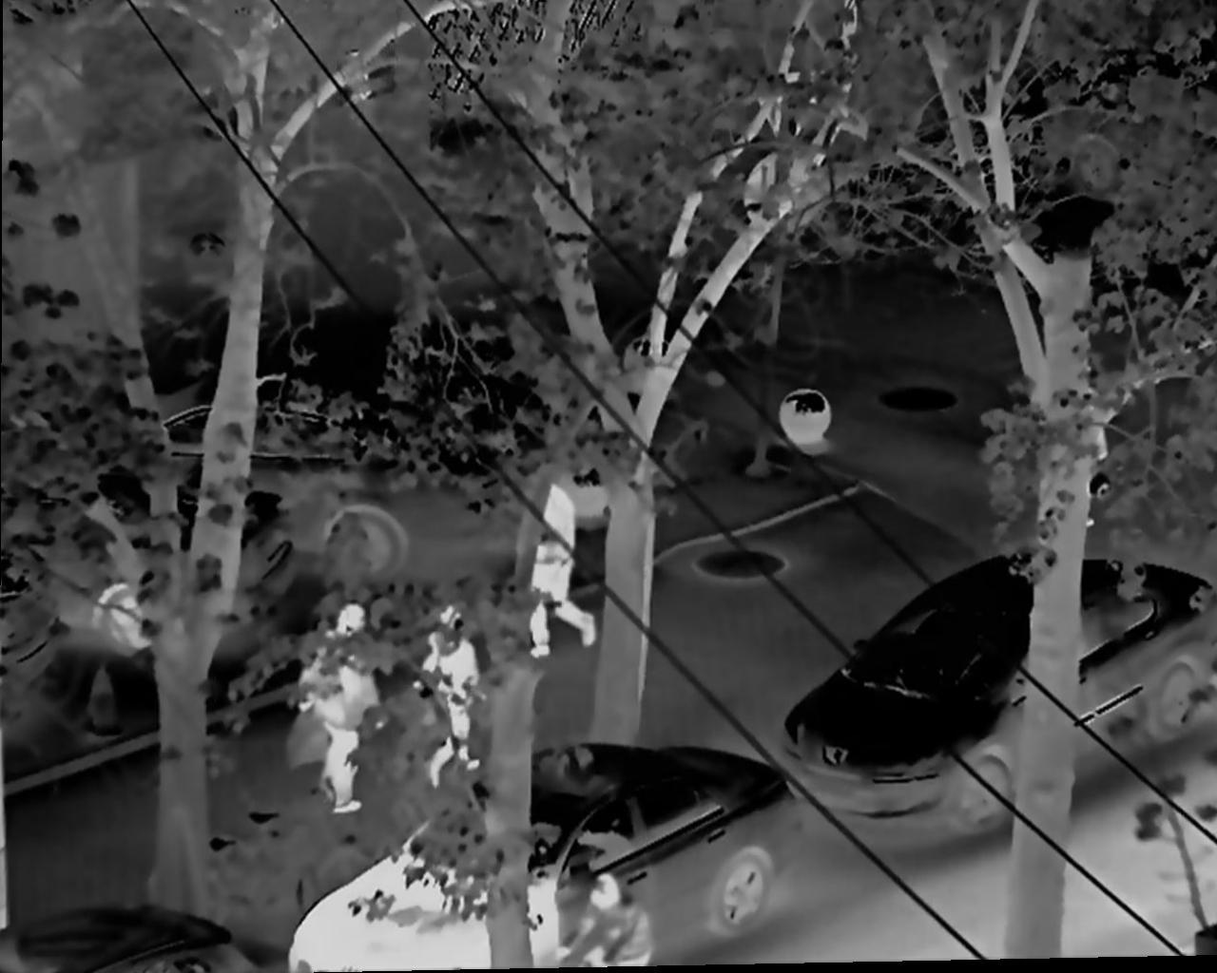person: (301, 603, 382, 812), (528, 483, 596, 665), (420, 607, 480, 783), (555, 869, 654, 973)
